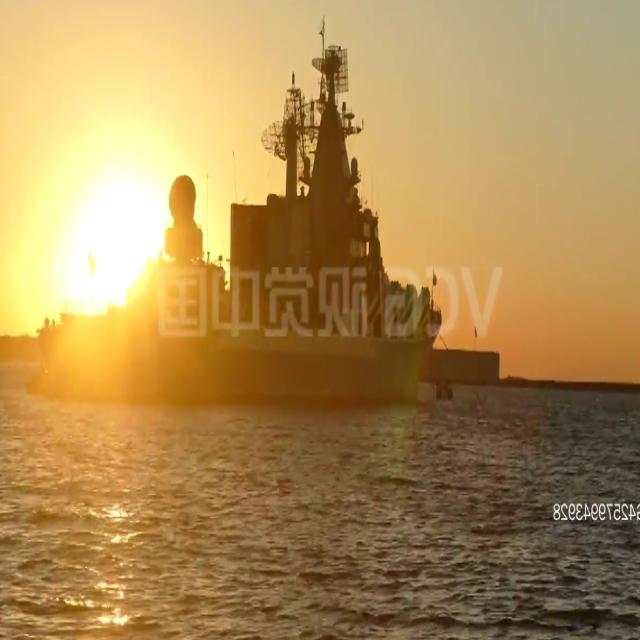navalvessels: (35, 29, 443, 398)
